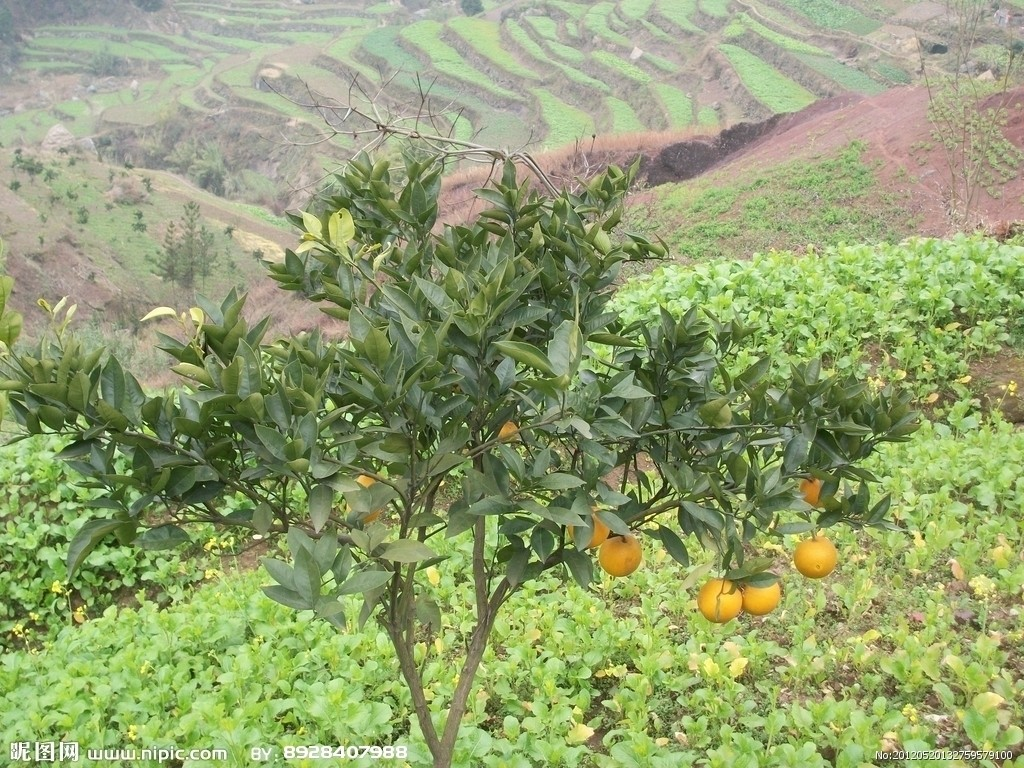orange: (566, 503, 611, 548), (796, 534, 840, 578), (698, 577, 740, 623), (599, 533, 642, 576), (742, 569, 780, 612), (796, 472, 832, 505)
